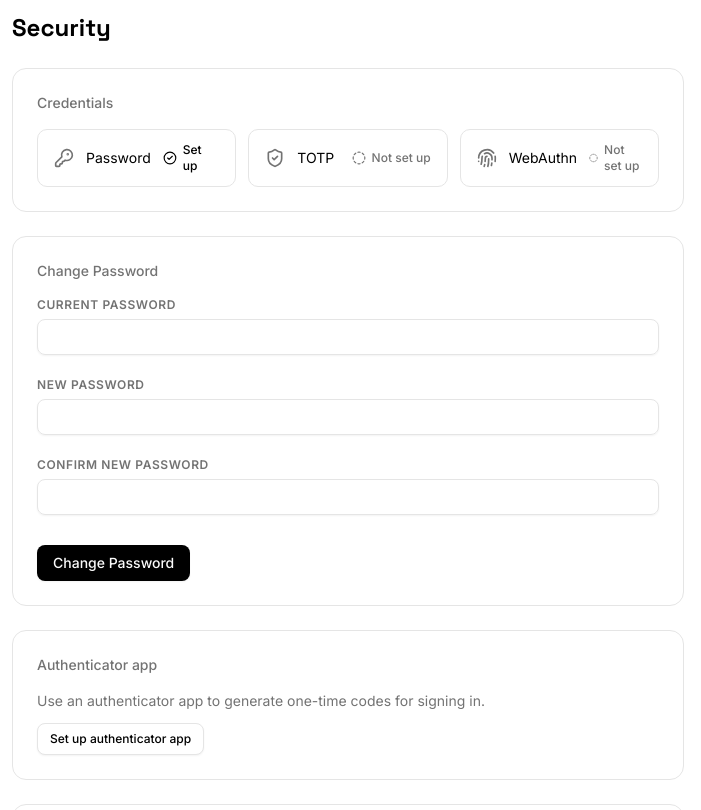
Scenario: PasswordPage › renders password-policy violations returned by the server
Expected: the text "Password" is shown, x1=86 y1=148 x2=151 y2=168
Step 1. Type "old-pass" into the password field labelled "Current password" → (348, 337), box x1=37 y1=319 x2=659 y2=355
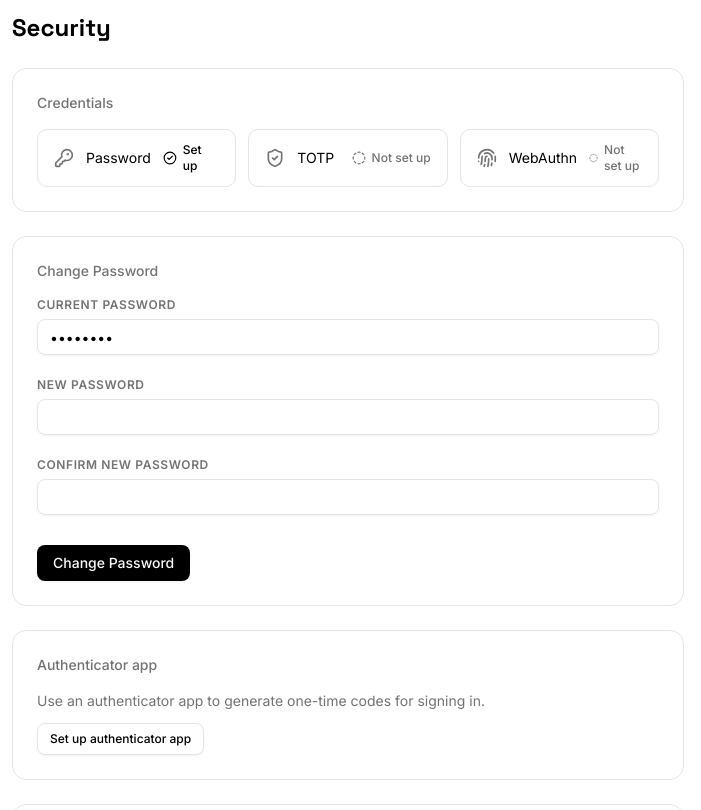
Step 2. Type "short" into the password field labelled "New password" → (348, 417), box x1=37 y1=399 x2=659 y2=435
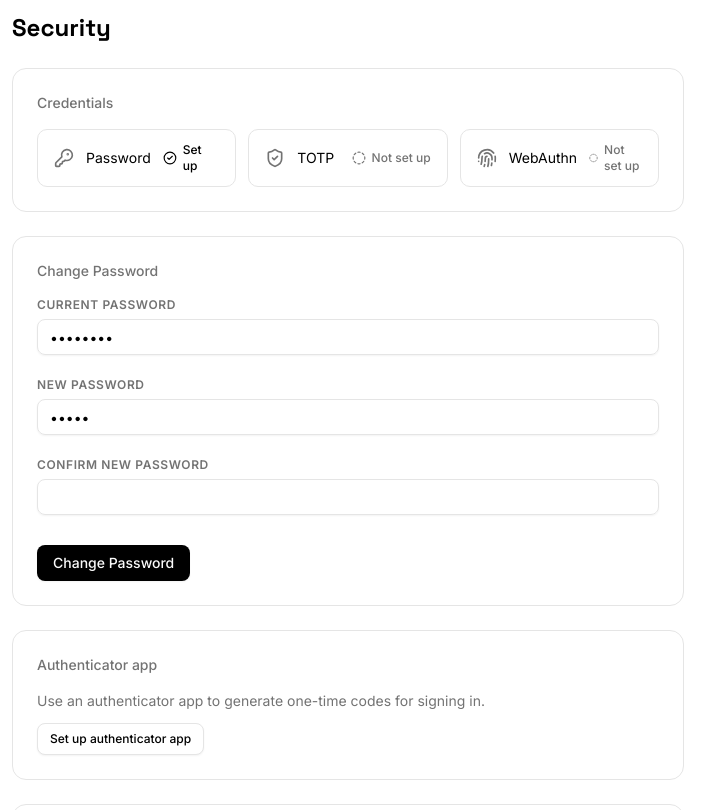
Step 3. Type "short" into the password field labelled "Confirm new password" → (348, 497), box x1=37 y1=479 x2=659 y2=515
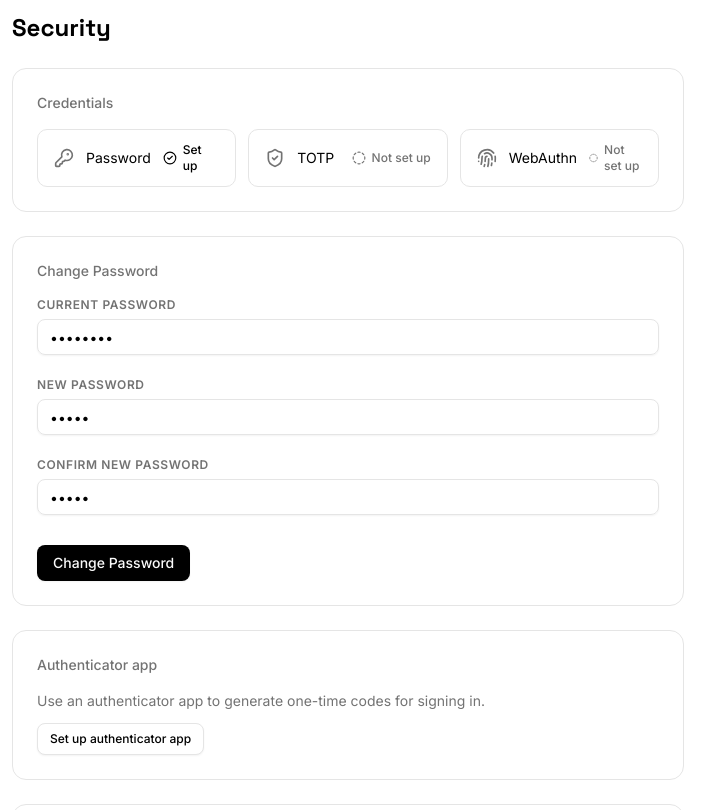
Step 4. Click the button "Change Password" → (114, 563), box x1=37 y1=545 x2=190 y2=581
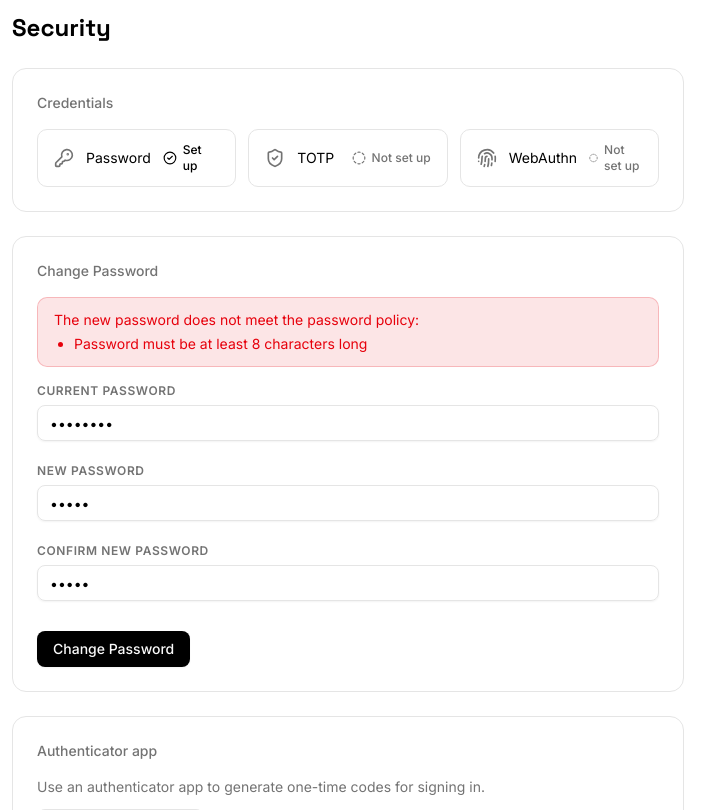
Expected: the list item "Password must be at least 8 characters long" is shown, x1=74 y1=335 x2=367 y2=352
